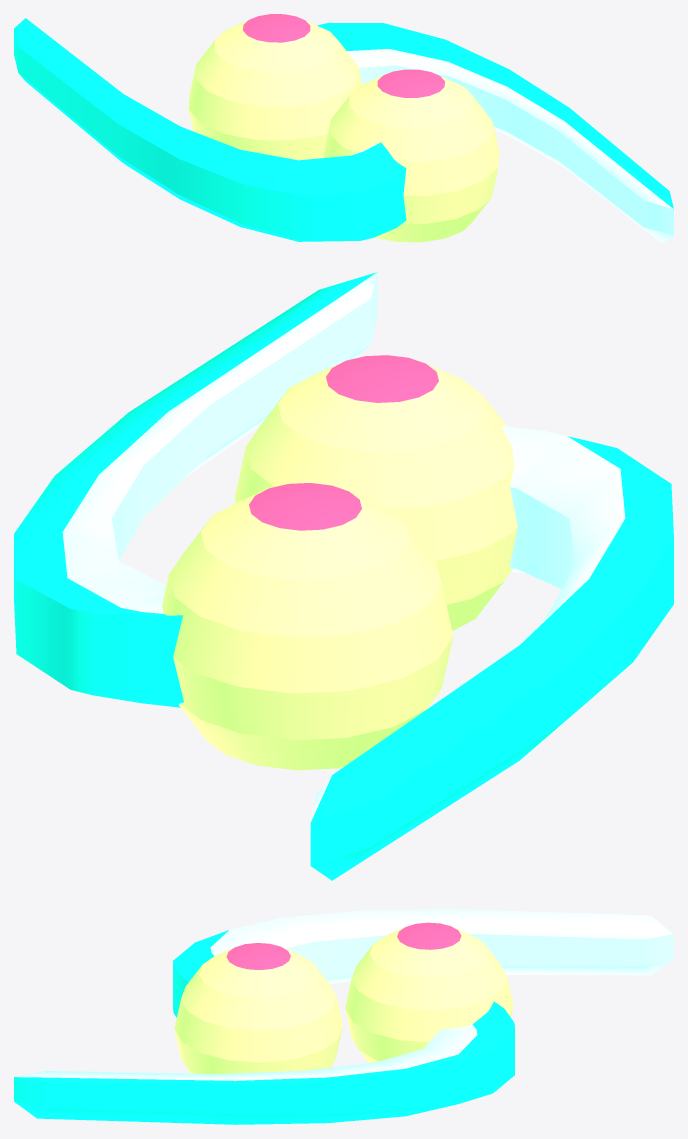
The model's file is twoenemy_glow_01.fbx.
3 renders of one model, top to bottom at view 1: azimuth 30°, elevation 25°; view 2: azimuth 150°, elevation 25°; view 3: azimuth 270°, elevation 25°, orthographic. The views are drawn at different scales.
Visible parts, largest first — view 1: pSphere87; view 2: pSphere87; view 3: pSphere87.
Part boxes in pixels (x1=…): pSphere87: x1=14, y1=14, x2=673, y2=243; pSphere87: x1=14, y1=272, x2=673, y2=880; pSphere87: x1=14, y1=909, x2=673, y2=1124.
Size of the model in its own units: 15.36 by 5.71 by 26.2.
